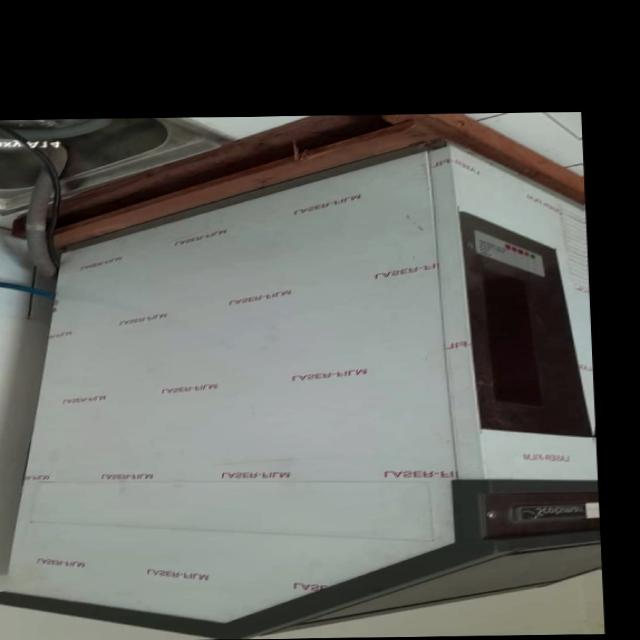Ice Maker: (0, 165, 593, 640)
